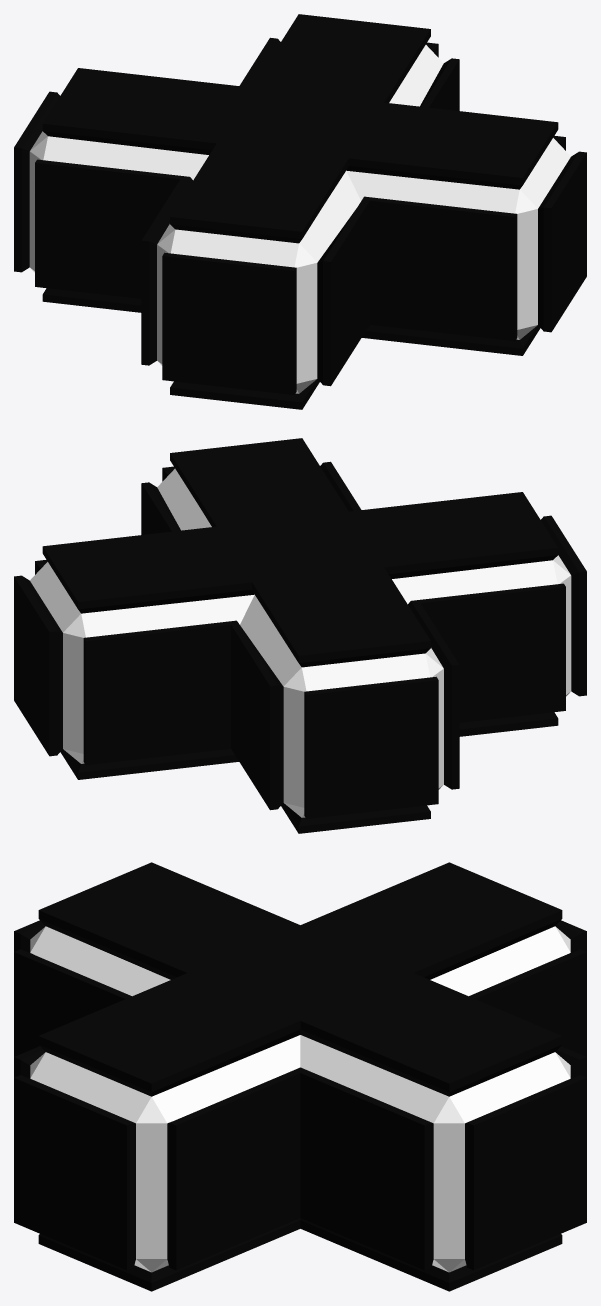
Rendered from Croix.fbx.
The picture shows the model from 3 angles, top to bottom: view 1: azimuth 30°, elevation 25°; view 2: azimuth 150°, elevation 25°; view 3: azimuth 270°, elevation 25°; orthographic projection. The views are drawn at different scales.
Visible parts, largest first — view 1: Croix; view 2: Croix; view 3: Croix.
Part boxes in pixels (x1=…): Croix: x1=14, y1=14, x2=586, y2=409; Croix: x1=14, y1=438, x2=586, y2=833; Croix: x1=14, y1=862, x2=586, y2=1291.
Size of the model in its own units: 0.9075 by 0.3633 by 0.9075.
